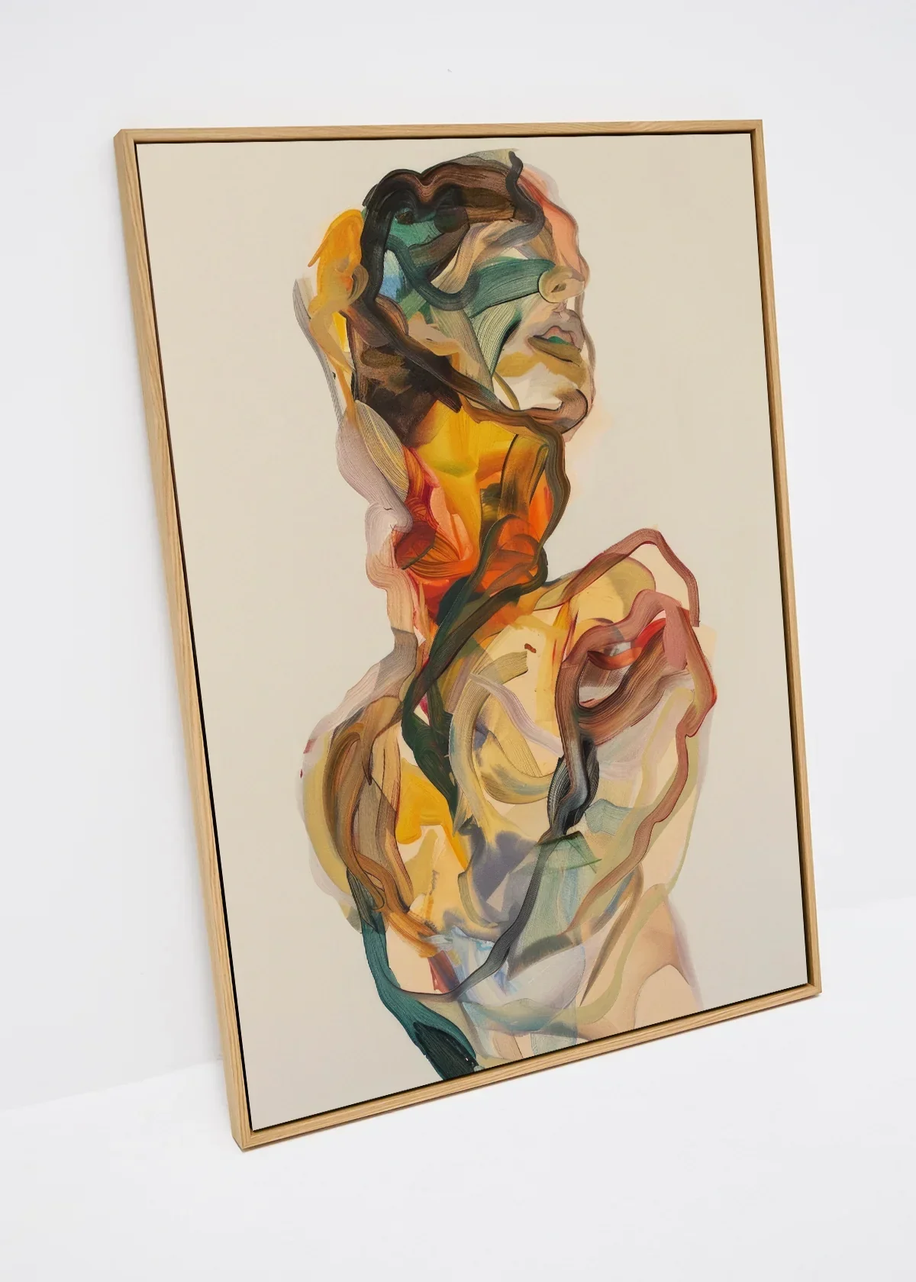painting: (288, 147, 721, 1080)
